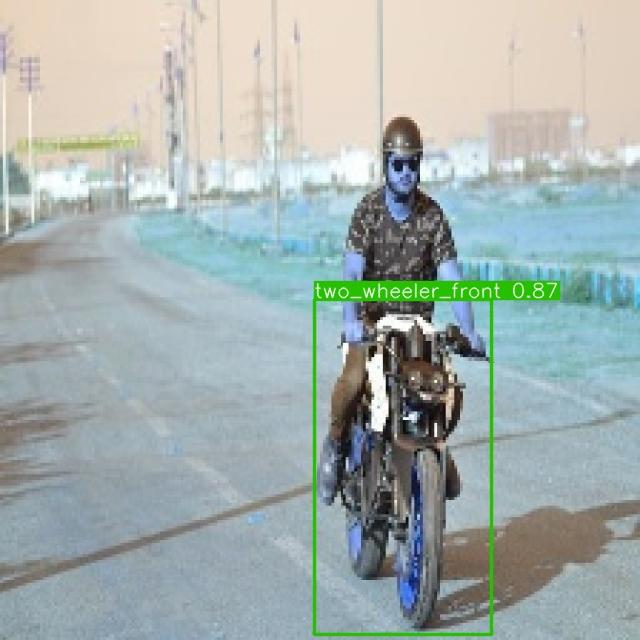two_wheeler_front: (308, 316, 502, 629)
